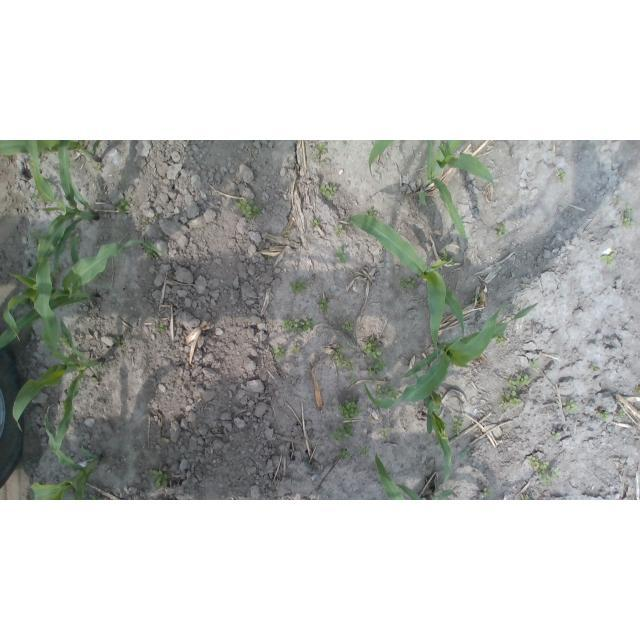Maize: (363, 303, 546, 410), (2, 241, 167, 350), (349, 215, 465, 361), (14, 256, 106, 432), (367, 146, 497, 240), (33, 141, 101, 294), (29, 407, 105, 500), (410, 361, 452, 484), (375, 452, 456, 500), (1, 141, 104, 168)
Weeds: (330, 401, 359, 440), (500, 375, 532, 407), (528, 456, 560, 485), (364, 338, 389, 374), (237, 200, 259, 218), (284, 319, 314, 332), (336, 347, 352, 370), (377, 385, 400, 400), (150, 468, 167, 488), (321, 185, 337, 199), (454, 417, 465, 437), (601, 253, 617, 266), (498, 223, 509, 241), (314, 148, 328, 162), (119, 201, 130, 218), (401, 276, 415, 289), (625, 206, 634, 226), (290, 283, 306, 294), (440, 250, 453, 263), (142, 217, 158, 227), (335, 249, 346, 263), (599, 408, 610, 420), (274, 346, 284, 359), (335, 226, 346, 236), (567, 402, 577, 413), (147, 248, 155, 259), (319, 299, 325, 313), (113, 337, 122, 346), (344, 322, 353, 331), (461, 449, 470, 456), (158, 324, 165, 333), (557, 169, 564, 178), (344, 451, 352, 458), (592, 365, 600, 372), (531, 359, 538, 367), (497, 337, 505, 344), (294, 346, 299, 356), (619, 411, 624, 420), (553, 432, 559, 439), (381, 430, 387, 437), (312, 221, 318, 226), (484, 487, 489, 493), (637, 385, 640, 394), (525, 495, 529, 500), (362, 447, 366, 452), (586, 381, 590, 385)
